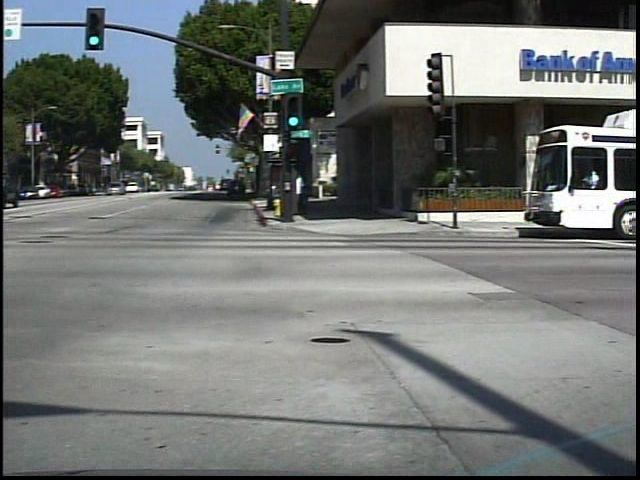person: (304, 167, 318, 217)
